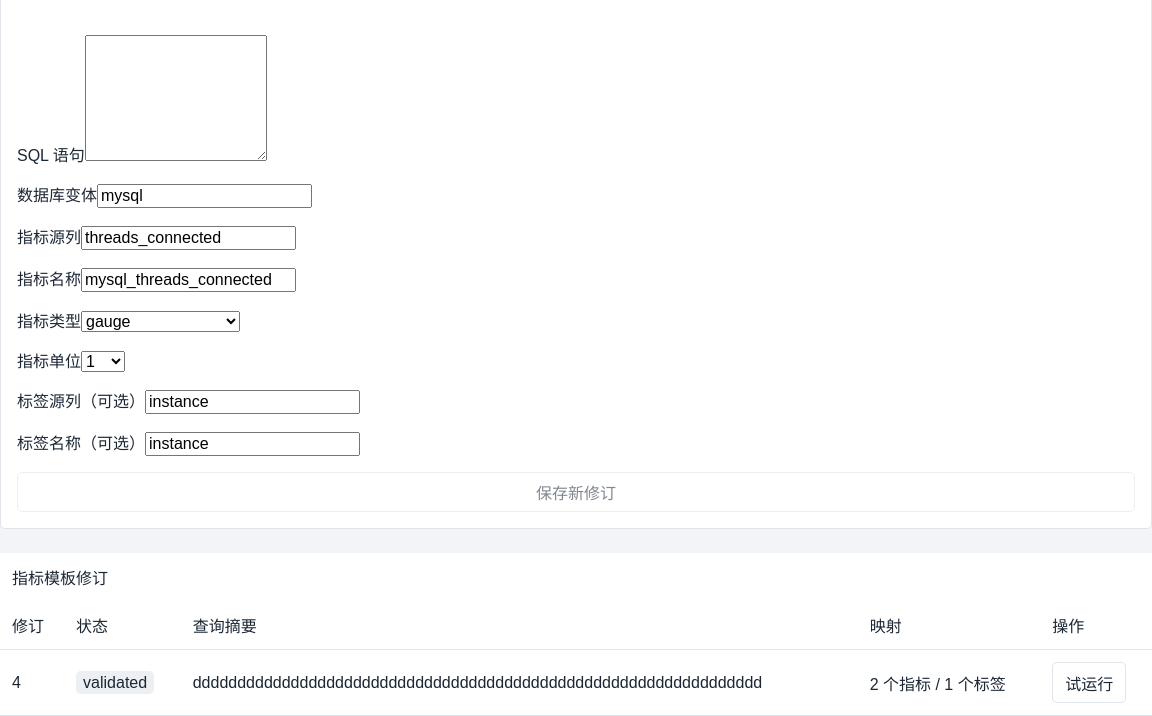
Test: Metric template management pages › stops and reports failed trial job polling without showing a fabricated result
The width and height of the screenshot is (1152, 716).
(page scrolled)
Click the button named "试运行 revision-validated": (1089, 683) [1052,662,1126,703]
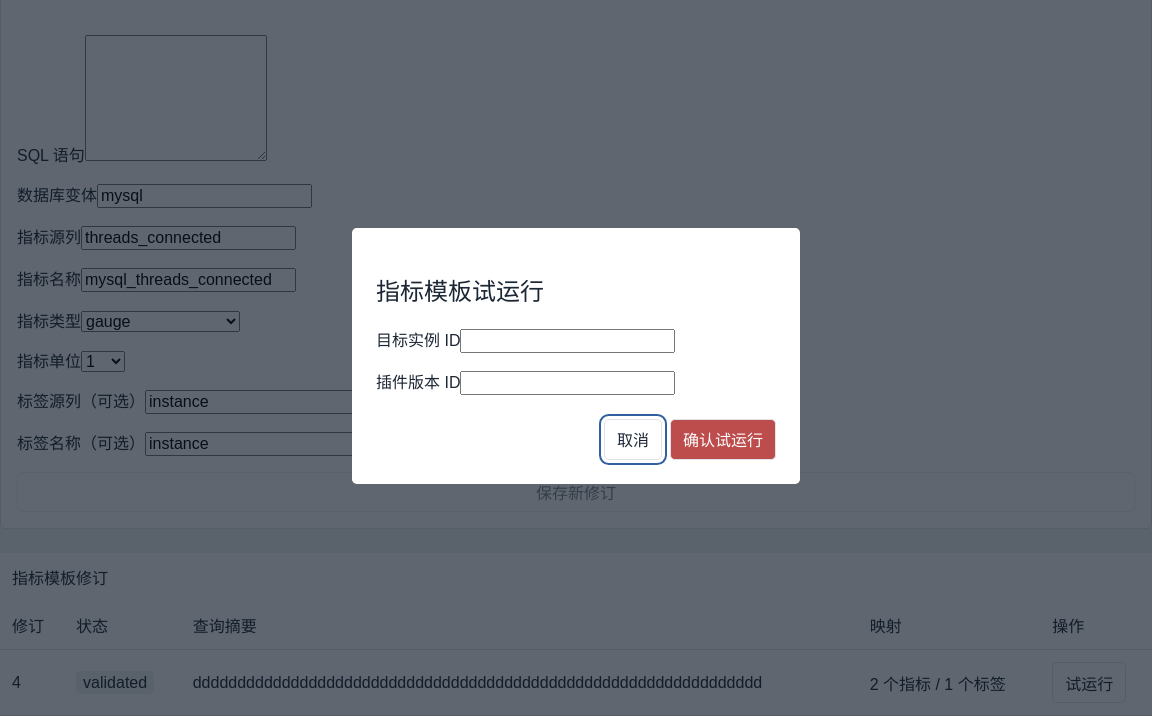
In the field labelled "目标实例 ID": (568, 341) [460,329,676,353], type "instance-1"
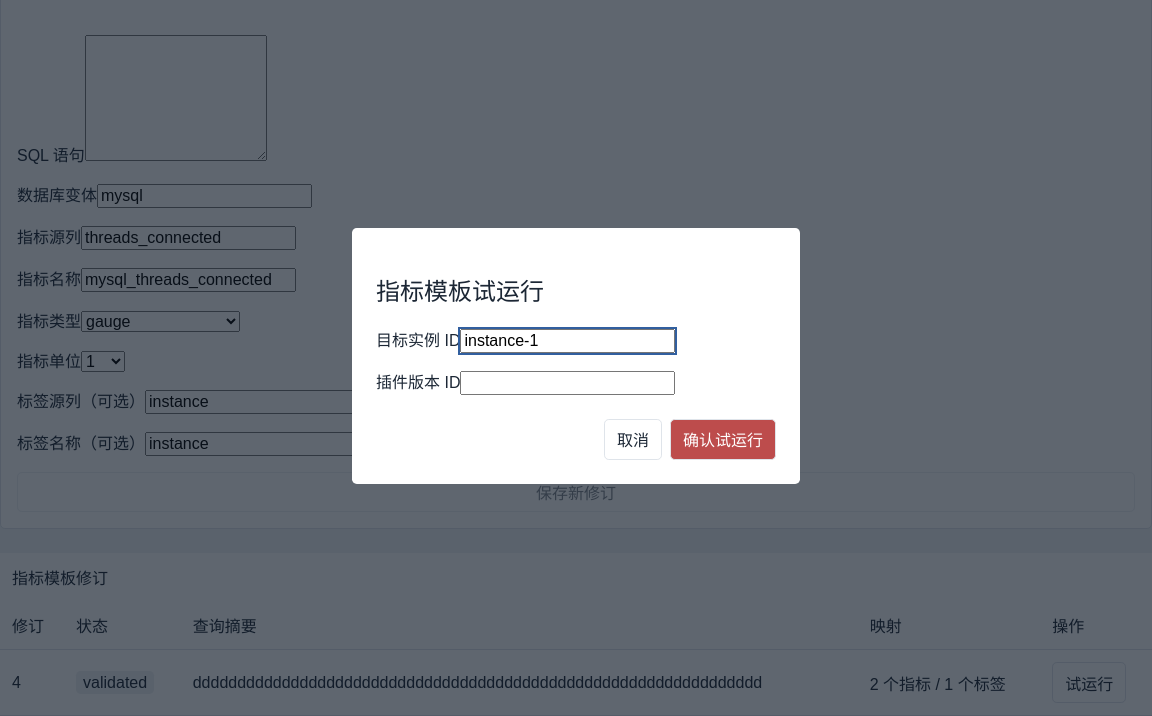
In the field labelled "插件版本 ID": (568, 383) [460,371,676,395], type "plugin-version-1"
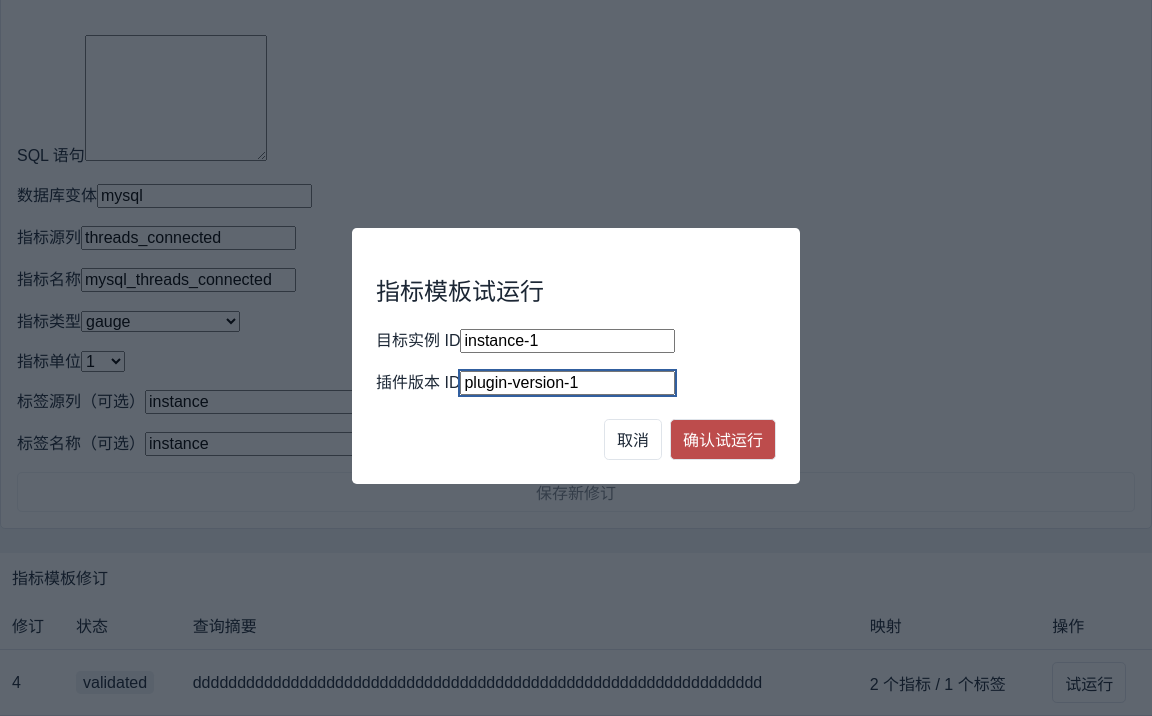
Click the button "确认试运行": (723, 439) [670,419,776,460]
(page scrolled)
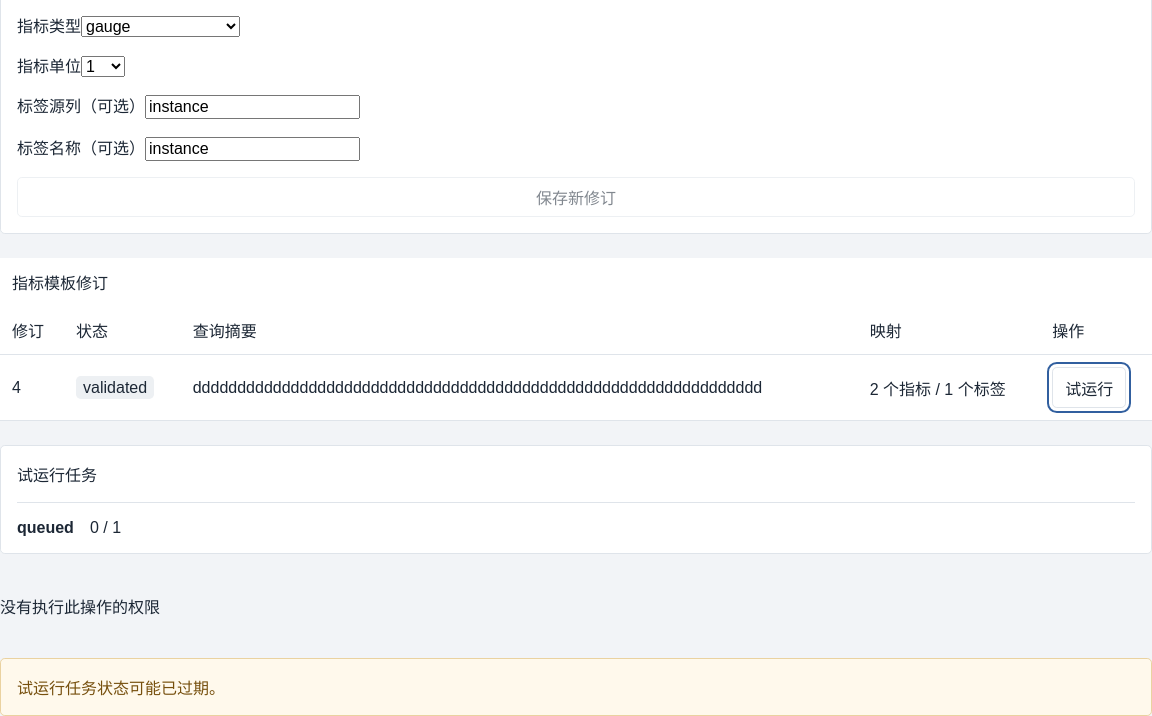
Expected: the message "没有执行此操作的权限" is shown, [0,599,160,616]
Expected: the text "试运行任务状态可能已过期。" is shown, [0,658,1151,715]
